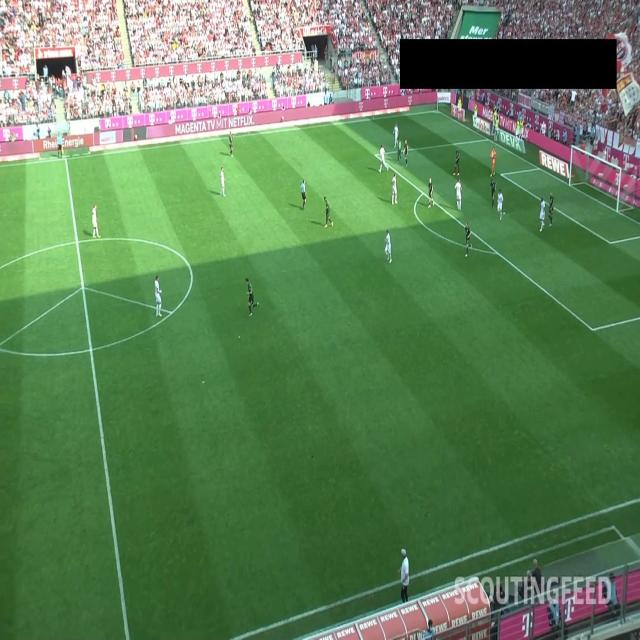ball: (491, 154, 494, 158)
